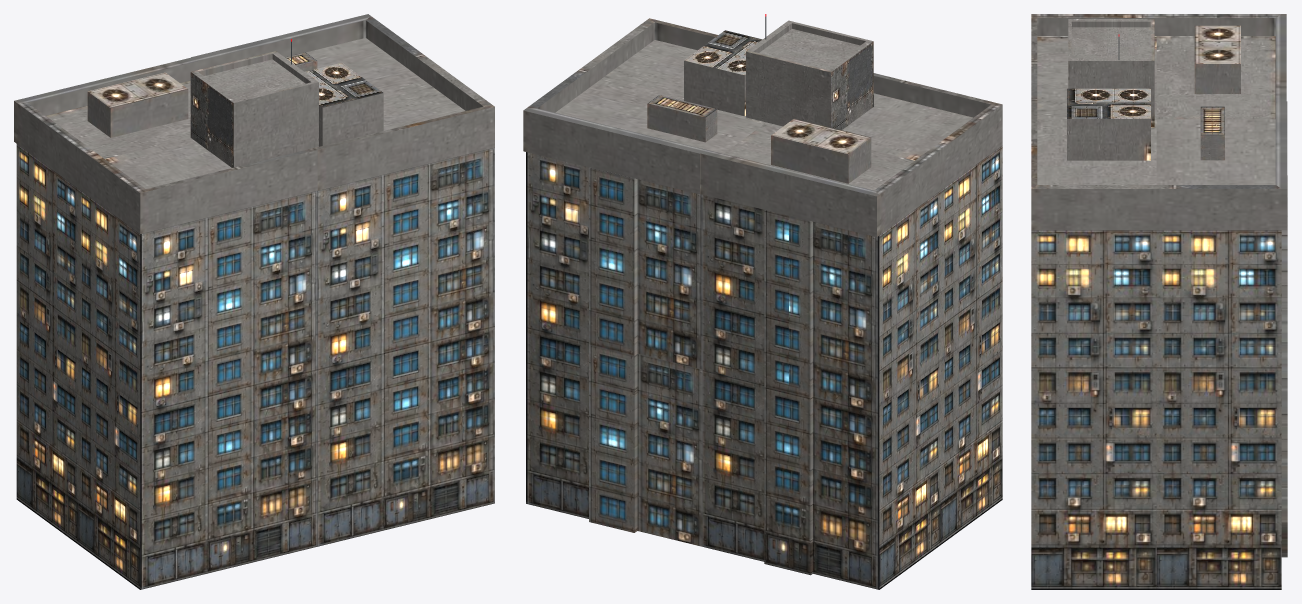
File: cyberpunk-residential-building-1.glb
3 views of the same model, side by side, from view 1: azimuth 30°, elevation 25°; view 2: azimuth 150°, elevation 25°; view 3: azimuth 270°, elevation 25° (orthographic).
Parts seen in each view (by area): view 1: cyberpunk-residential-building-1; view 2: cyberpunk-residential-building-1; view 3: cyberpunk-residential-building-1.
Boxes of the visible parts, x1,y1,x2,y2 form: cyberpunk-residential-building-1: (14, 14, 494, 589); cyberpunk-residential-building-1: (523, 14, 1002, 589); cyberpunk-residential-building-1: (1031, 14, 1287, 589).
Size of the model in its own units: 34.63 by 44 by 21.43.
Materials: 2 (1 with a texture image).
